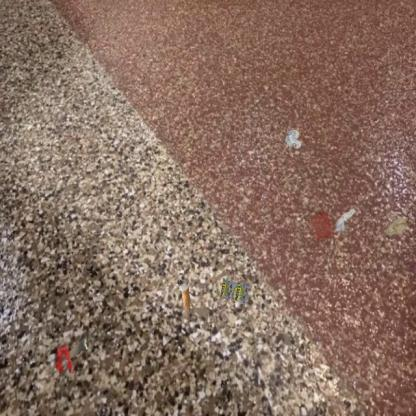dirty: (218, 278, 249, 304), (66, 333, 92, 361), (334, 206, 356, 232), (384, 216, 410, 236), (176, 278, 192, 310), (283, 128, 303, 151)
liquid: (308, 210, 334, 241), (54, 343, 75, 376)
